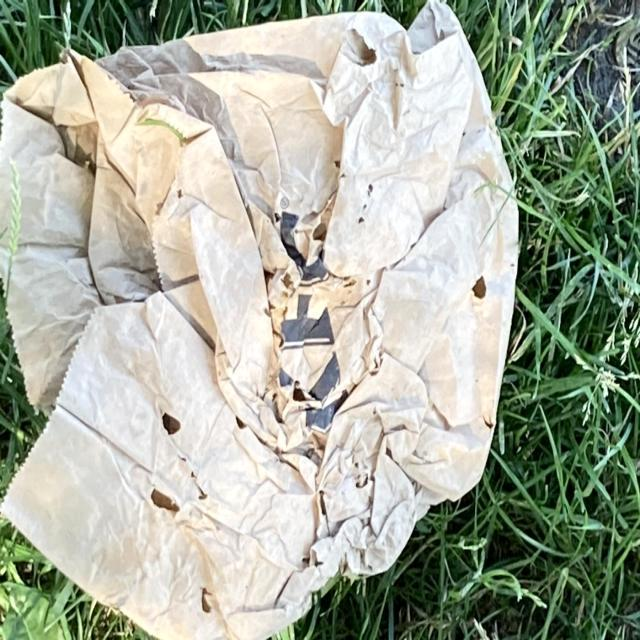Paper: (0, 0, 522, 638)
